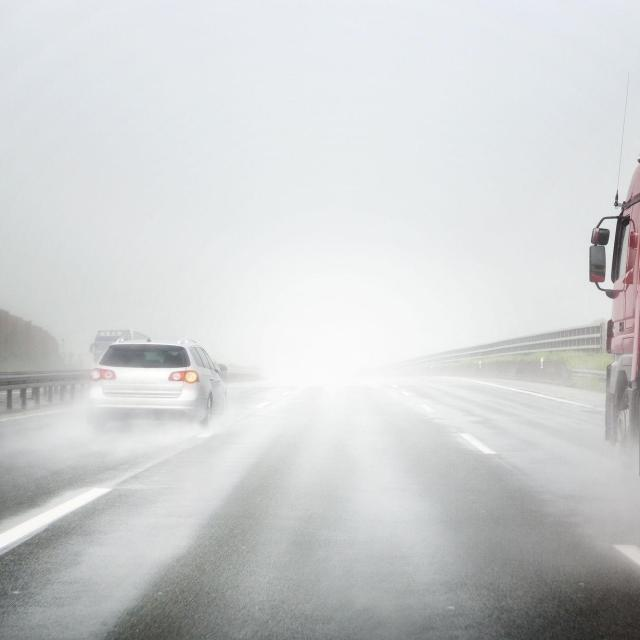Car: (62, 327, 224, 453)
Truck: (562, 135, 640, 445)
